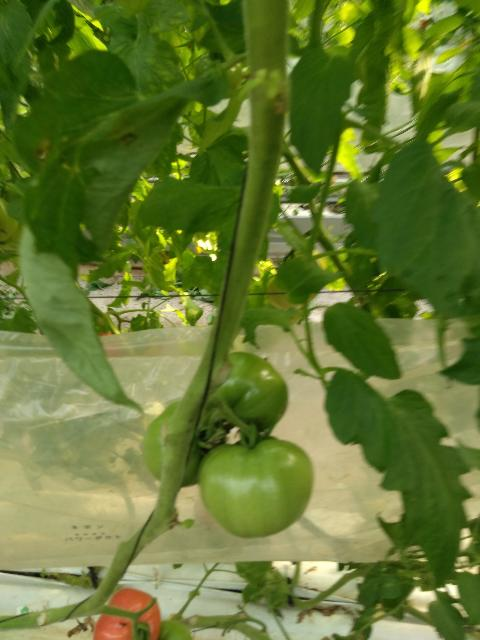b_green: (198, 434, 314, 539), (143, 400, 227, 488), (208, 352, 290, 434), (158, 619, 193, 640)
b_half_ripened: (93, 587, 160, 640)
